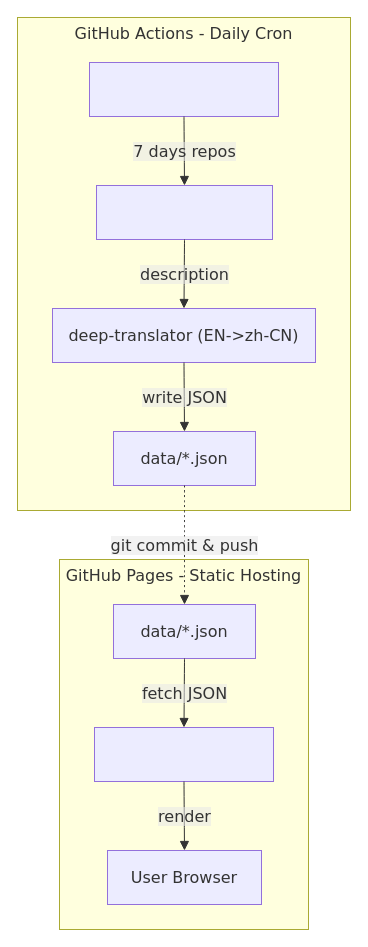
Some shapes in this 368 by 947 pixel diagram are drawn without their labels. The shapes that lost their labels are listed below. From the top down, each one's centre as x and y in pixels, then its label:
At (x=183, y=89): "GitHub Search API".
At (x=184, y=212): "fetch.py (parse)".
At (x=184, y=754): "index.html (SPA)".
